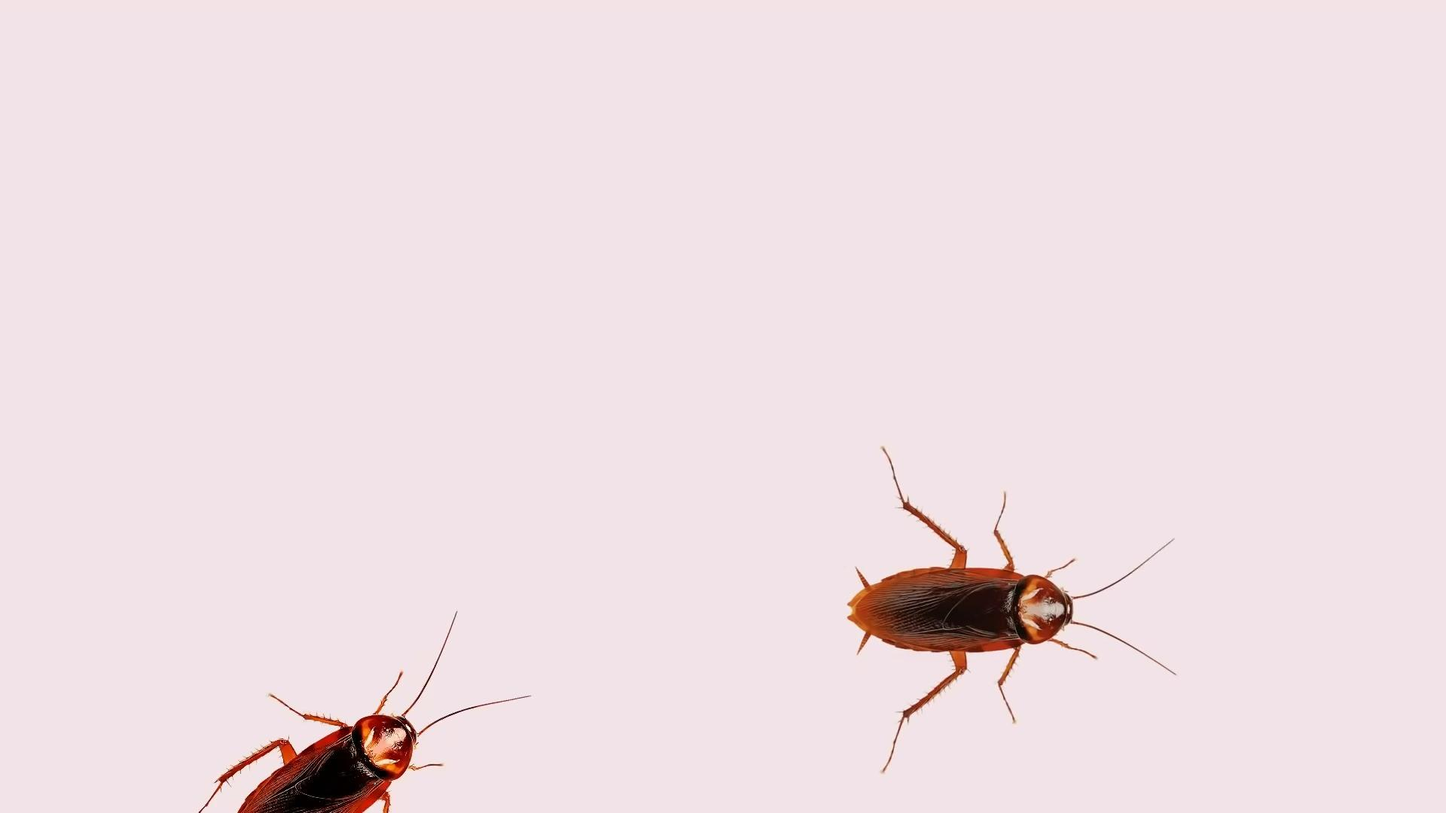cockroach: (827, 437, 1173, 765), (197, 611, 534, 813)
